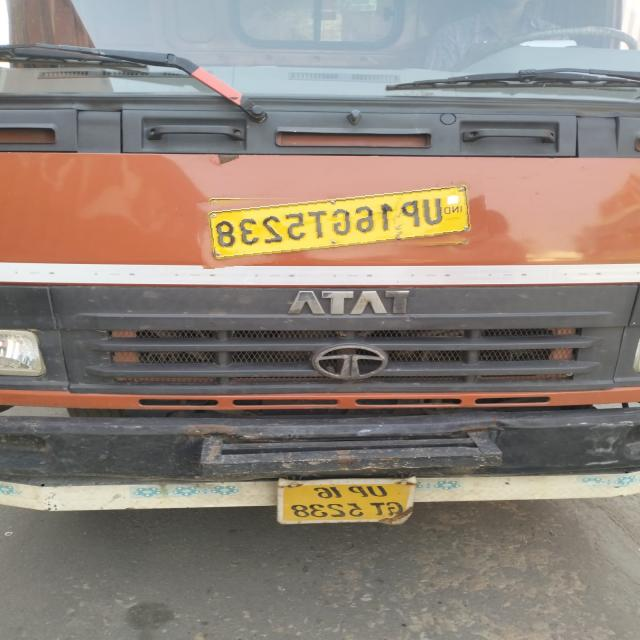License-plate: (197, 181, 488, 262)
